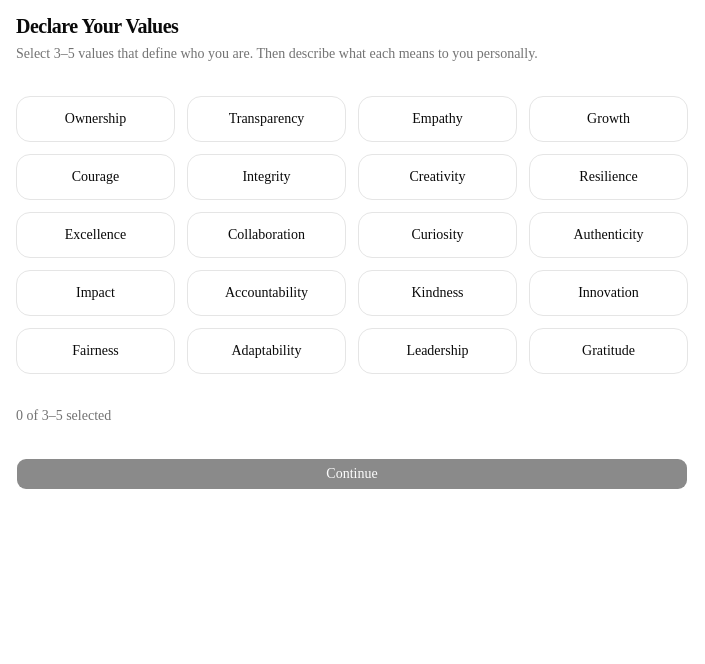
Test: ValuesDeclaration › shows context prompt with value name
The image size is (705, 664).
Click the button "Integrity": (266, 177) [187, 154, 346, 200]
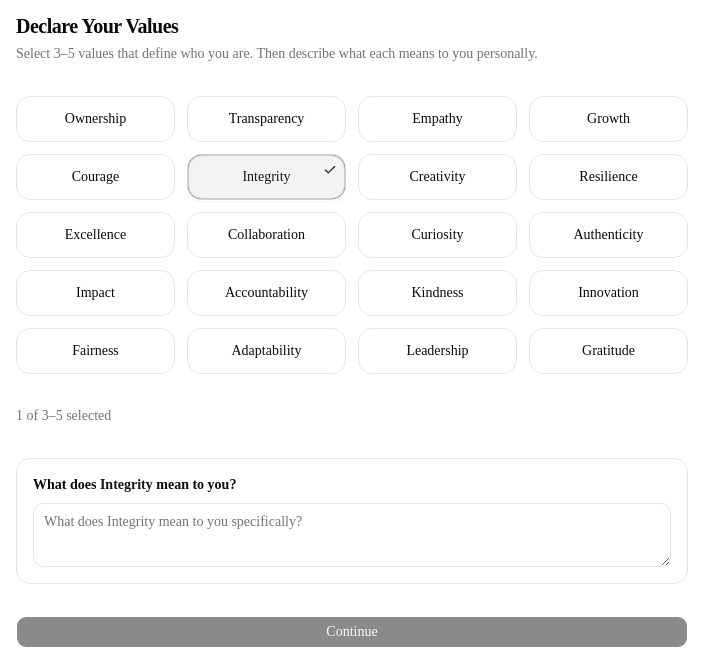
Now the text box with placeholder "What does Integrity mean to you specifically?" is shown, box [33, 503, 671, 567]
